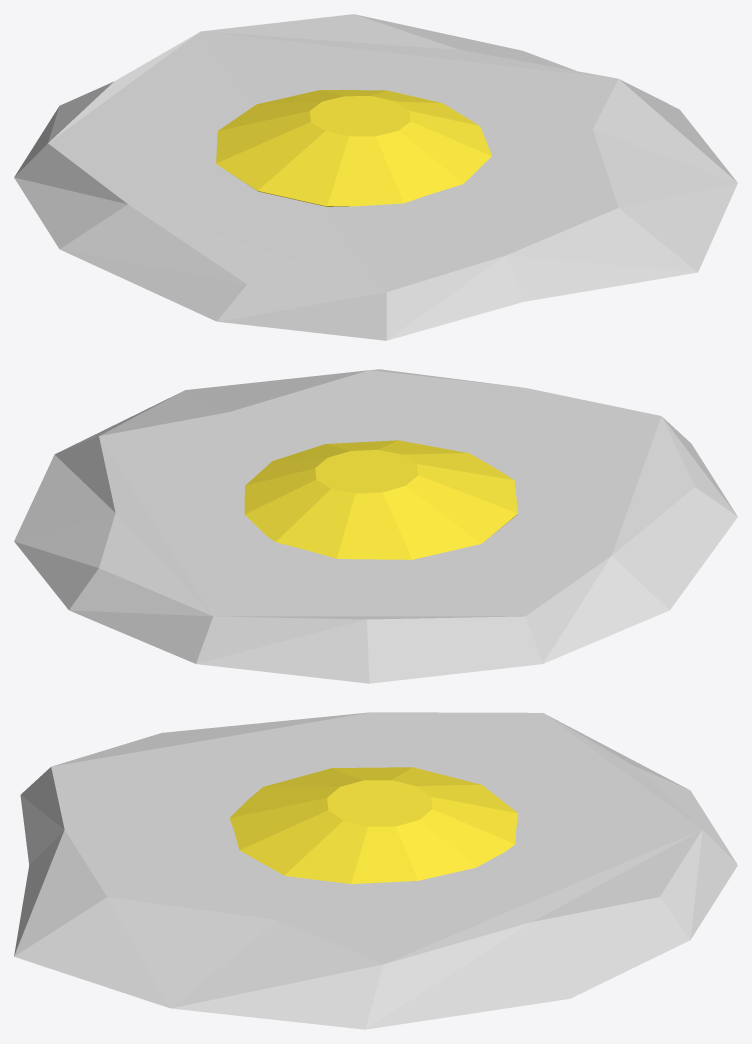
Rendered from egg.glb.
3 views of the same model, one above another, from view 1: azimuth 30°, elevation 25°; view 2: azimuth 150°, elevation 25°; view 3: azimuth 270°, elevation 25° (orthographic). The views are drawn at different scales.
Visible parts, largest first — view 1: Node; view 2: Node; view 3: Node.
Boxes of the visible parts, x1=… form: Node: x1=14, y1=14, x2=737, y2=340; Node: x1=14, y1=369, x2=737, y2=683; Node: x1=14, y1=712, x2=737, y2=1029.
Bounding box in the file's own units: 0.5183 × 0.0615 × 0.5096.
